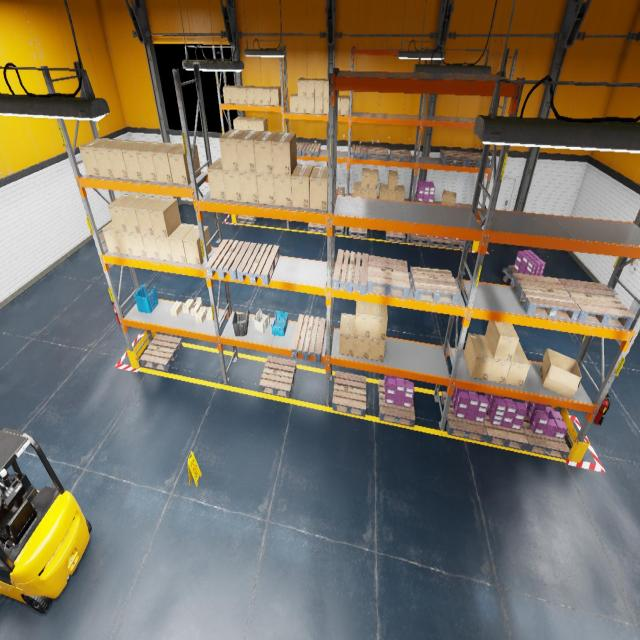box: (540, 348, 582, 399), (485, 321, 519, 362), (464, 333, 493, 380), (168, 144, 201, 185), (78, 138, 112, 177), (107, 140, 139, 179), (149, 198, 181, 237), (93, 138, 124, 178), (485, 336, 511, 383), (121, 141, 152, 180), (136, 142, 166, 182), (152, 143, 181, 183), (219, 129, 246, 171), (505, 341, 530, 386), (183, 225, 211, 265), (121, 195, 150, 233), (108, 194, 137, 232), (236, 130, 262, 172), (135, 196, 163, 235), (254, 131, 279, 174), (272, 132, 296, 176), (168, 224, 194, 263), (291, 164, 313, 209), (207, 158, 226, 200), (310, 166, 328, 210), (339, 313, 355, 356), (370, 303, 388, 340), (274, 172, 292, 207), (102, 221, 121, 254), (355, 300, 371, 338), (256, 173, 275, 205), (223, 170, 242, 202), (240, 172, 258, 203), (141, 234, 160, 259), (115, 231, 134, 256), (155, 236, 173, 261), (128, 232, 146, 257), (368, 338, 386, 362), (354, 336, 369, 358), (222, 85, 235, 103), (190, 297, 202, 316), (230, 85, 242, 104), (246, 86, 258, 104), (238, 86, 250, 104), (442, 190, 456, 205), (270, 86, 281, 105), (262, 86, 273, 105), (254, 86, 265, 105), (297, 78, 308, 97), (388, 170, 398, 190), (340, 95, 350, 115), (170, 301, 183, 316), (182, 298, 194, 314), (314, 78, 324, 97), (306, 78, 316, 97), (195, 308, 207, 323), (361, 168, 370, 188), (369, 169, 378, 188), (255, 118, 268, 131), (206, 306, 217, 321), (240, 117, 252, 130), (290, 94, 298, 112), (248, 117, 259, 130), (306, 97, 314, 114), (396, 185, 405, 200), (379, 184, 388, 199), (233, 117, 244, 129), (388, 184, 396, 200), (353, 181, 361, 197), (314, 98, 322, 114), (298, 97, 306, 113), (323, 79, 329, 98), (369, 188, 377, 198), (323, 98, 328, 114), (361, 188, 369, 197), (338, 95, 341, 115)
forklift: (0, 428, 92, 613)
pallets: (558, 278, 635, 329), (510, 273, 581, 321), (441, 391, 487, 442), (521, 415, 570, 459), (367, 255, 410, 299), (410, 267, 460, 304), (205, 239, 250, 280), (378, 379, 416, 427), (237, 242, 279, 285), (484, 412, 528, 451), (291, 314, 326, 362), (333, 250, 368, 295), (332, 371, 366, 417), (140, 334, 182, 371), (260, 356, 296, 398), (462, 151, 490, 167), (439, 150, 466, 165), (389, 149, 412, 162), (368, 146, 388, 160), (449, 238, 472, 250), (302, 143, 321, 157), (410, 233, 430, 246), (351, 145, 368, 160), (430, 236, 451, 248), (386, 231, 406, 243), (349, 227, 367, 238), (414, 194, 436, 203), (237, 215, 258, 224), (308, 223, 326, 233), (326, 224, 344, 234), (506, 265, 518, 277), (296, 142, 305, 156), (336, 187, 345, 195)
